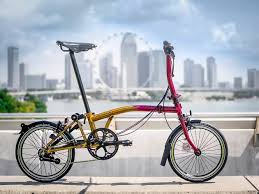bicycle: (11, 37, 236, 188)
